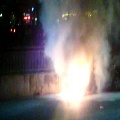fire: (56, 56, 90, 105)
